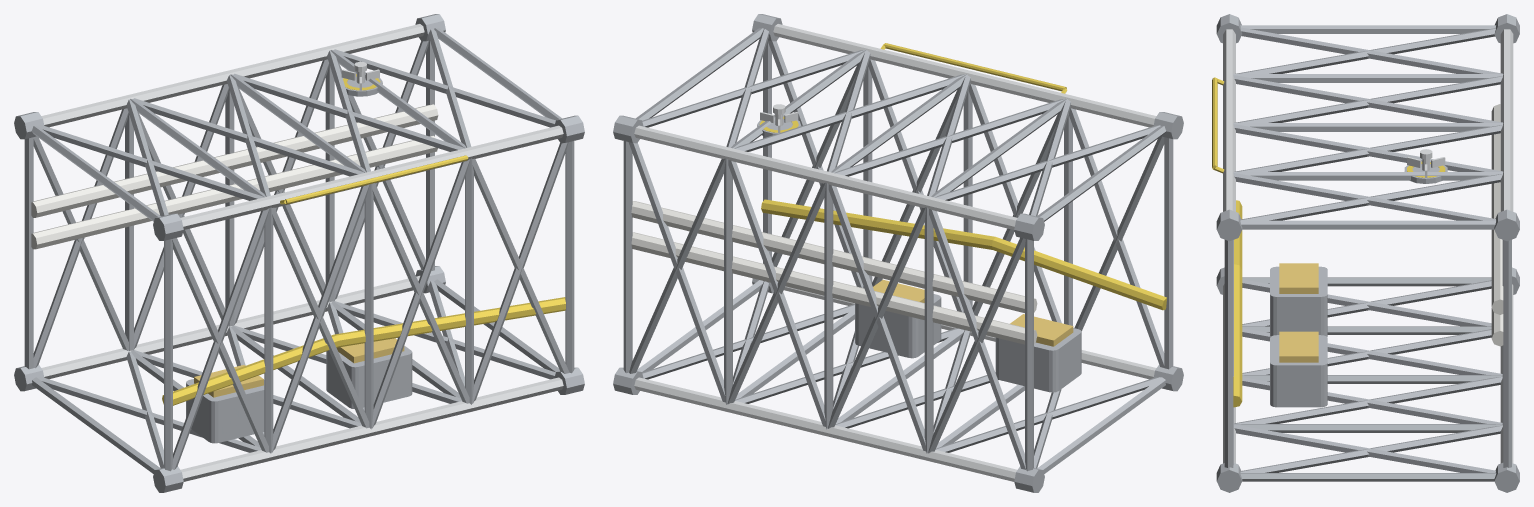
File: orbital-station-and-docking-bays-truss-bay-segment-uti-d01e1fbd__24539.glb
3 views of the same model, side by side, from view 1: azimuth 30°, elevation 25°; view 2: azimuth 150°, elevation 25°; view 3: azimuth 270°, elevation 25° (orthographic).
Visible parts, largest first — view 1: truss-bay-segment-utility; view 2: truss-bay-segment-utility; view 3: truss-bay-segment-utility.
Boxes of the visible parts, x1,y1,x2,y2 form: truss-bay-segment-utility: [14, 14, 584, 492]; truss-bay-segment-utility: [613, 14, 1183, 492]; truss-bay-segment-utility: [1212, 14, 1519, 492].
Bounding box in the file's own units: 4.18 × 2.7 × 2.66.
